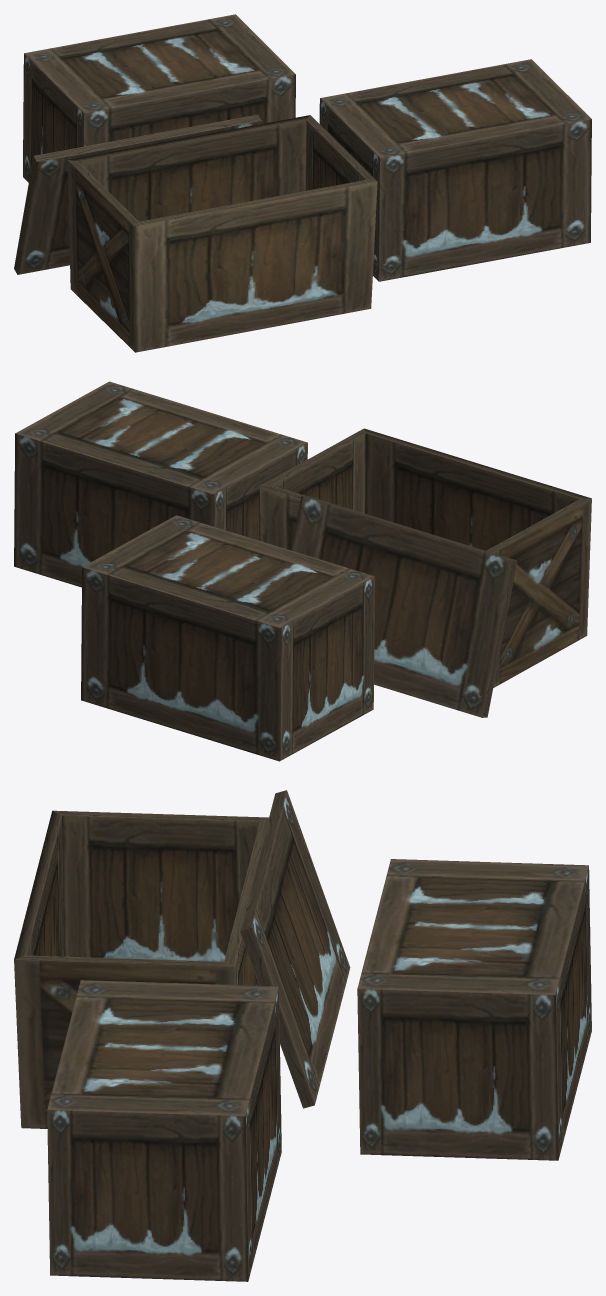
Rendered from environment_common_muzhixiang_002_a.FBX.
3 views of the same model, one above another, from view 1: azimuth 30°, elevation 25°; view 2: azimuth 150°, elevation 25°; view 3: azimuth 270°, elevation 25° (orthographic). The views are drawn at different scales.
Visible parts, largest first — view 1: environment_common_muzhixiang_002_a; view 2: environment_common_muzhixiang_002_a; view 3: environment_common_muzhixiang_002_a.
Part boxes in pixels (bbox=[...]): environment_common_muzhixiang_002_a: bbox=[14, 14, 591, 352]; environment_common_muzhixiang_002_a: bbox=[14, 381, 591, 761]; environment_common_muzhixiang_002_a: bbox=[14, 790, 591, 1281].
Size of the model in its own units: 255 by 69.45 by 198.
